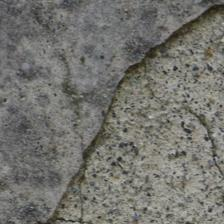Crack: (7, 60, 76, 224), (68, 54, 156, 164)
